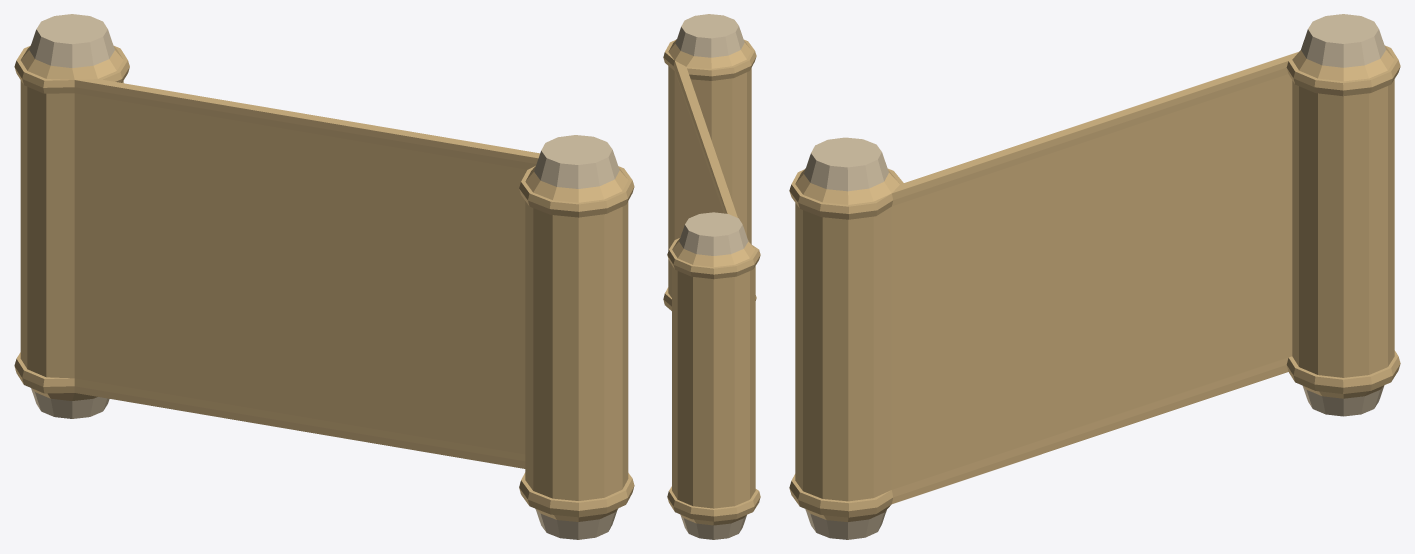
File: scroll.open.fbx
3 renders of one model, left to right at view 1: azimuth 30°, elevation 25°; view 2: azimuth 150°, elevation 25°; view 3: azimuth 270°, elevation 25°, orthographic. The views are drawn at different scales.
Parts seen in each view (by area): view 1: Cylinder; view 2: Cylinder; view 3: Cylinder.
Boxes of the visible parts, x1,y1,x2,y2 form: Cylinder: [14, 14, 634, 539]; Cylinder: [663, 14, 760, 539]; Cylinder: [789, 14, 1400, 539].
Bounding box in the file's own units: 794 × 802 × 1192.
